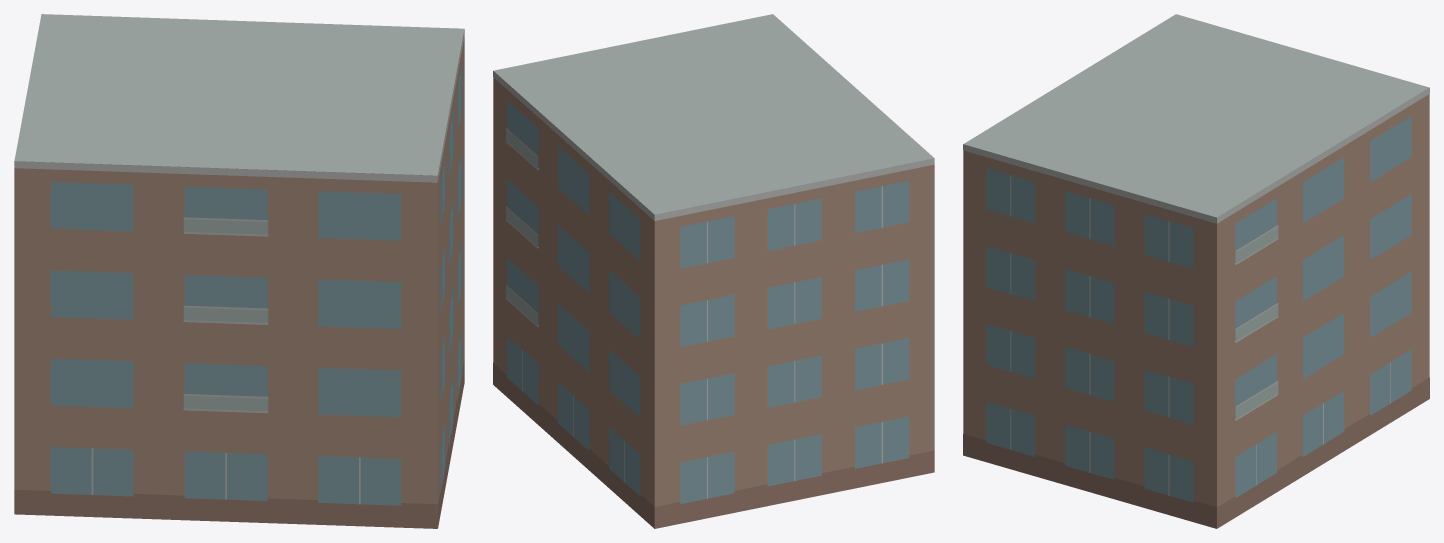
File: survey-upis-32780051.glb
3 renders of one model, left to right at view 1: azimuth 30°, elevation 25°; view 2: azimuth 150°, elevation 25°; view 3: azimuth 270°, elevation 25°, orthographic. The views are drawn at different scales.
Parts seen in each view (by area): view 1: survey-upis-32780051.tmp; view 2: survey-upis-32780051.tmp; view 3: survey-upis-32780051.tmp.
Part boxes in pixels (<box>): survey-upis-32780051.tmp: <box>14,14,464,528</box>; survey-upis-32780051.tmp: <box>493,14,934,528</box>; survey-upis-32780051.tmp: <box>963,14,1429,528</box>.
Size of the model in its own units: 17.12 by 12.2 by 16.58.
